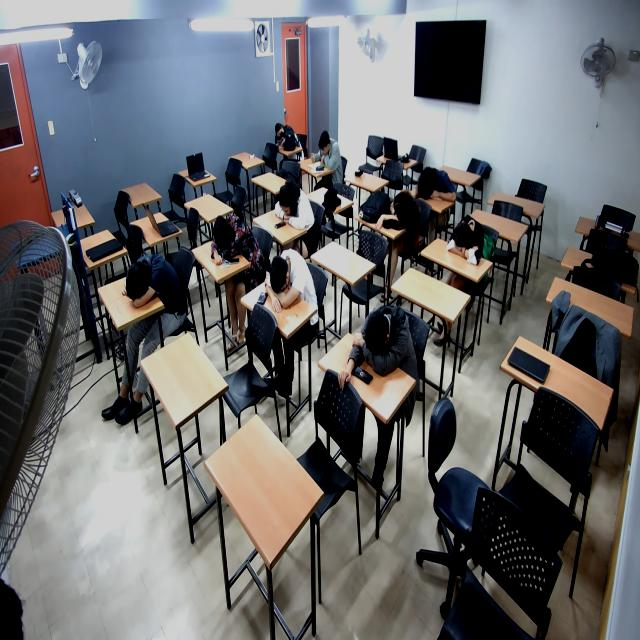sleep: (353, 300, 424, 370), (121, 248, 189, 310), (263, 248, 319, 317), (208, 213, 263, 274), (445, 214, 490, 271), (274, 174, 314, 232), (375, 190, 422, 237), (413, 162, 456, 206), (272, 120, 301, 154)
